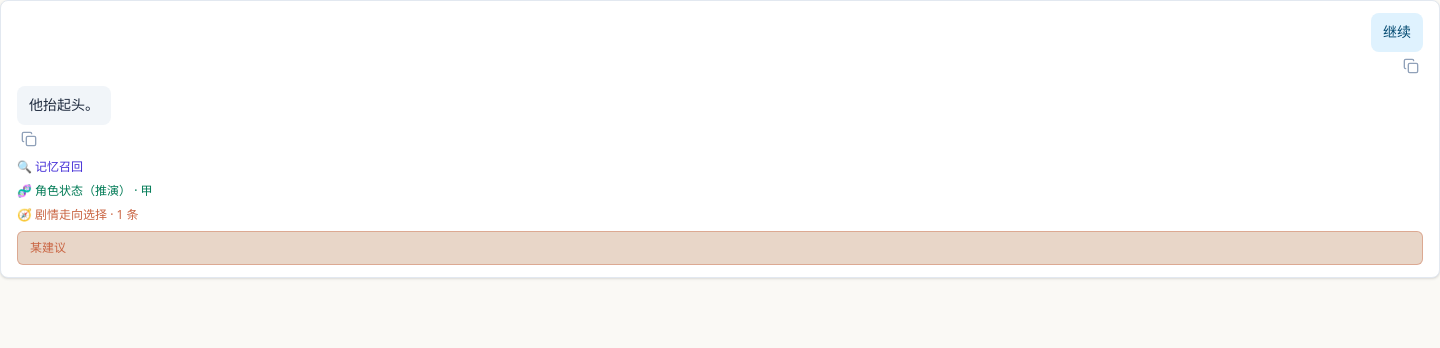
Test: TurnSegments › renders recall content when round.recallContext is set
Click the button "🔍 记忆召回". click: [50, 166]
box: [17,158,83,174]
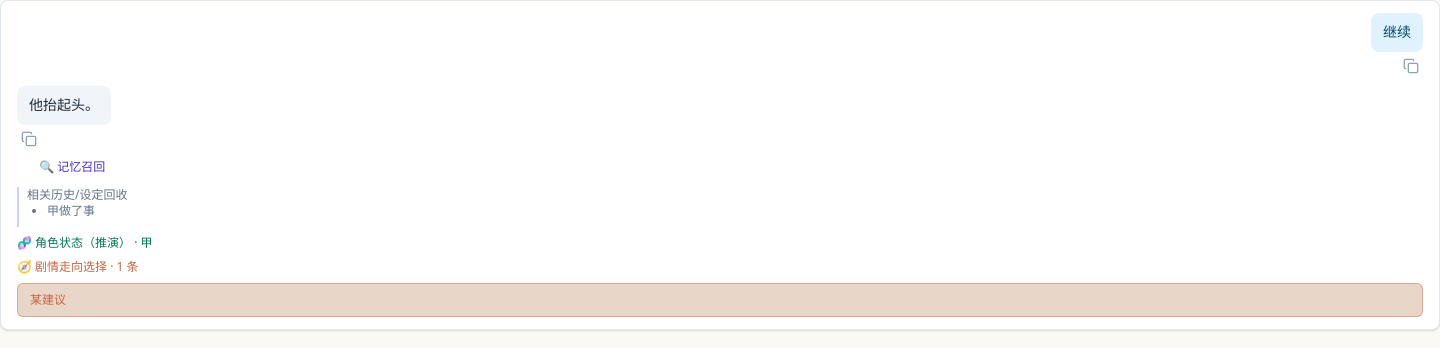
Now the list item "甲做了事" is shown, box [47,202,95,218]
